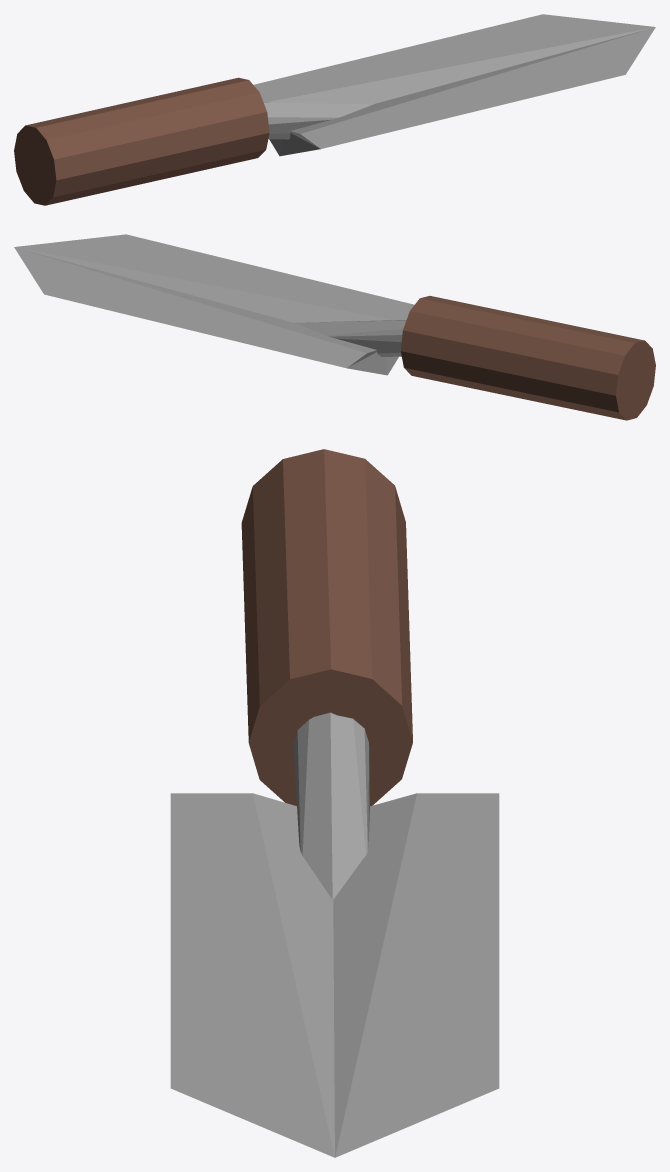
Rendered from Gardening Trowel by involuntary tsetse - 3Jrn0djxEEF.glb.
3 renders of one model, top to bottom at view 1: azimuth 30°, elevation 25°; view 2: azimuth 150°, elevation 25°; view 3: azimuth 270°, elevation 25°, orthographic. The views are drawn at different scales.
Parts seen in each view (by area): view 1: group267097909, group404934574, group2142306877; view 2: group267097909, group404934574, group2142306877; view 3: group267097909, group404934574, group2142306877.
Boxes of the visible parts, x1,y1,x2,y2 form: group267097909: (253,14,655,156); group404934574: (14,77,269,205); group2142306877: (263,102,373,139); group267097909: (14,234,414,375); group404934574: (400,296,655,420); group2142306877: (295,320,406,356); group267097909: (170,793,499,1157); group404934574: (241,449,412,806); group2142306877: (293,712,369,899).
Size of the model in its own units: 0.3485 by 0.0483 by 0.08.
